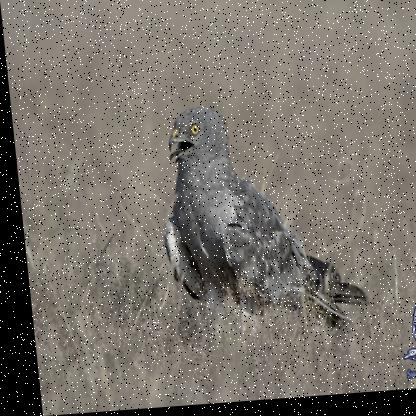Burung: (144, 98, 366, 364)
